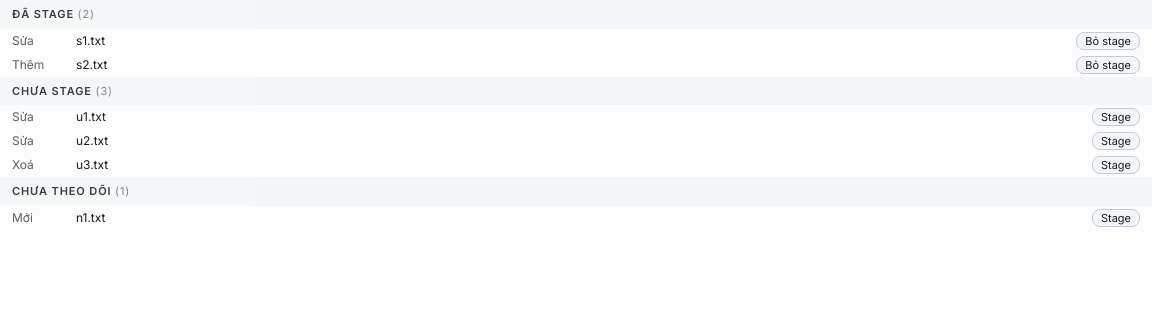
Test: stage / unstage theo tệp (WORK-02) › stageFiles ném lỗi → hàng vẫn còn, lỗi hiện ra, không trắng màn hình
Check: the element with test id "change-row" showing "Sửa s1.txt Bỏ stage" is shown, box 0,28 -> 1151,52
Click the button with aria-label "Stage u1.txt": (1116, 117) 1092,108 -> 1140,126
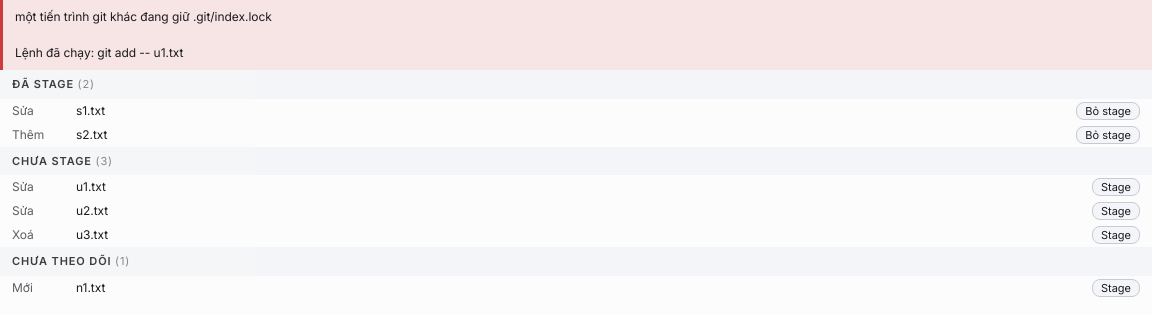
Check: the text "u1.txt" is shown, box 76,179 -> 106,194
Check: the message shows "index.lock", box 15,9 -> 272,60
